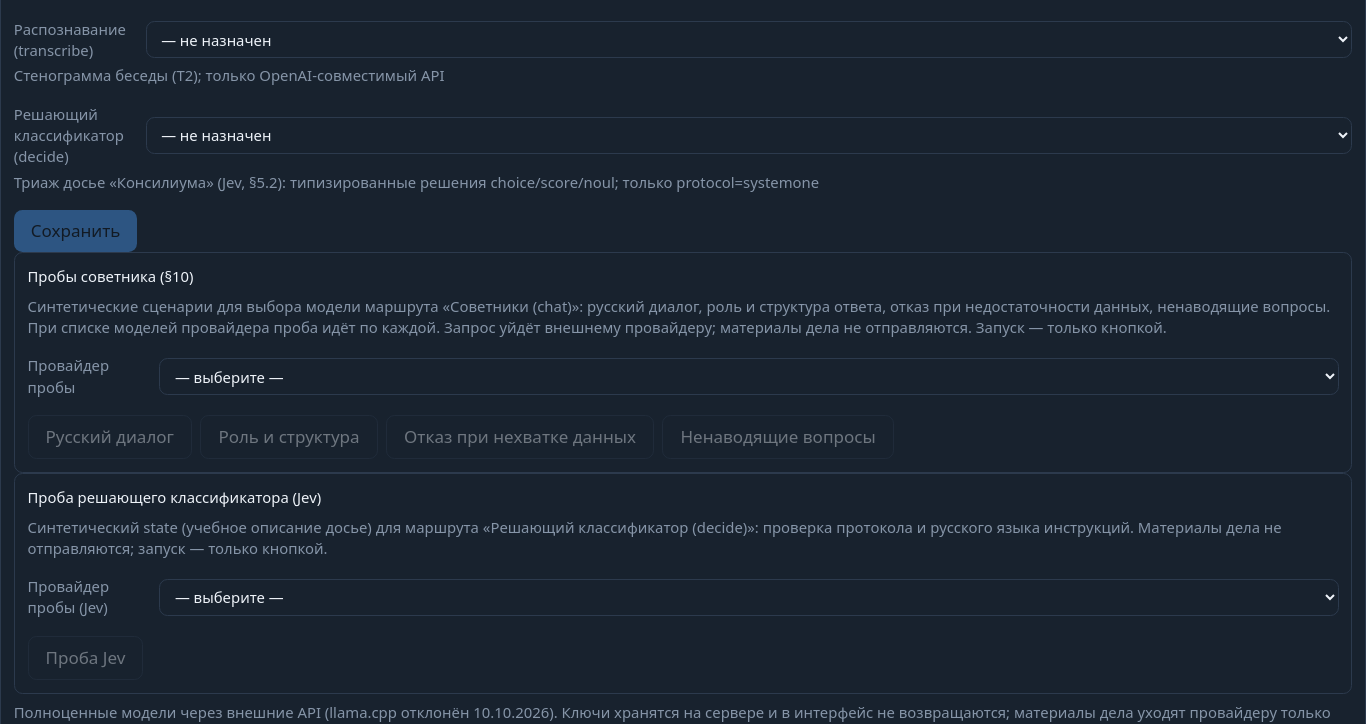
Test: панель «Модельный роутер ИИ» › пробы советника показывают ответ по каждой модели списка
(page scrolled)
Select "Полная модель" in the dropdown labelled "Провайдер пробы". click: (749, 376)
box: left=159, top=358, right=1339, bottom=395
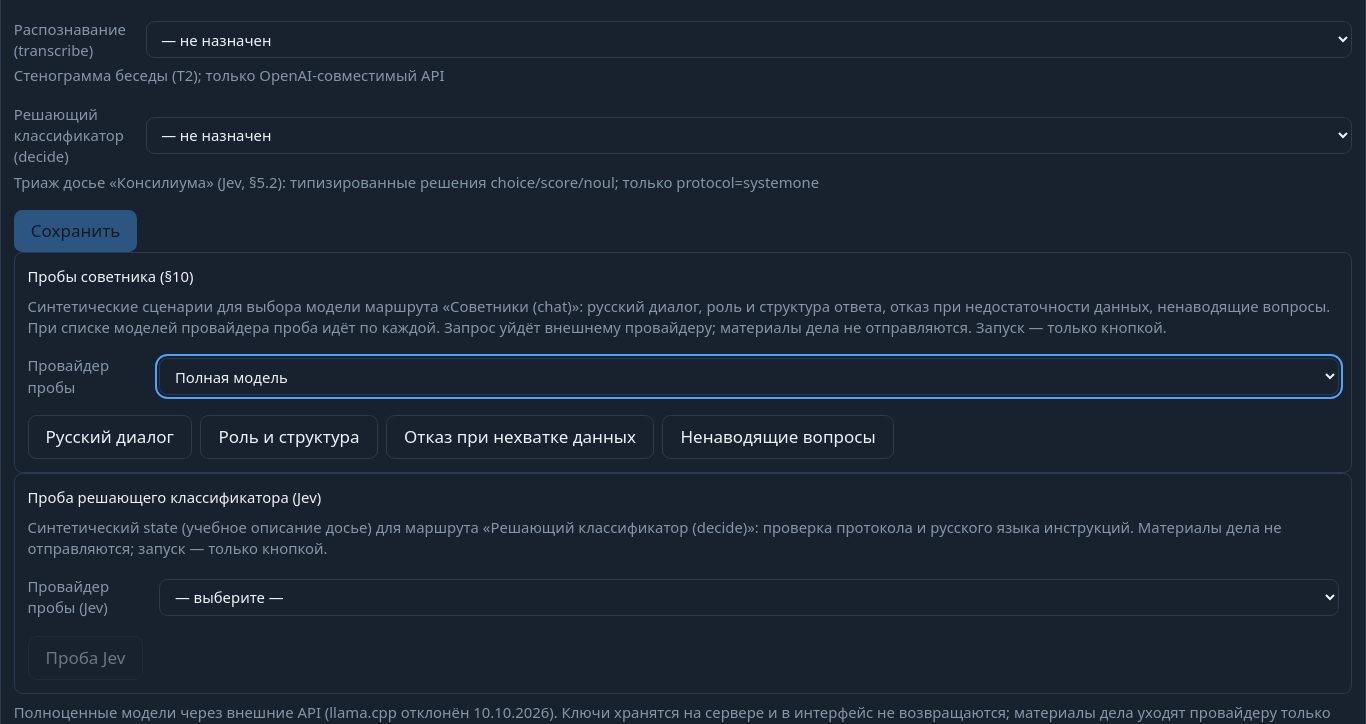
Click the button "Роль и структура". click: (289, 437)
box: left=200, top=415, right=378, bottom=459
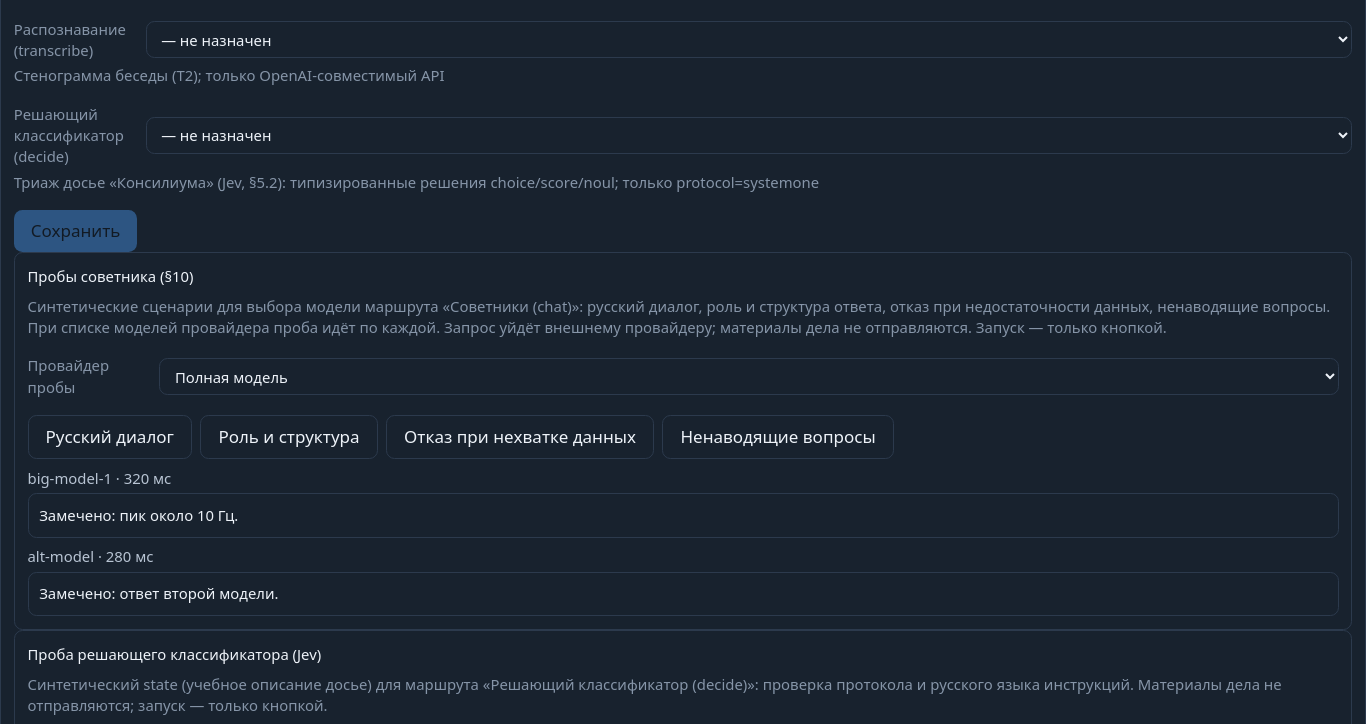
Result: the text "big-model-1 · 320 мс" is shown at left=28, top=468, right=171, bottom=488
Result: the text "alt-model · 280 мс" is shown at left=28, top=546, right=153, bottom=566
Result: the text "Замечено: ответ второй модели." is shown at left=28, top=572, right=1338, bottom=616
